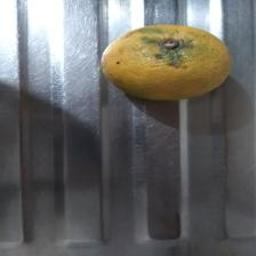Orange Semifresh: (92, 13, 255, 117)
